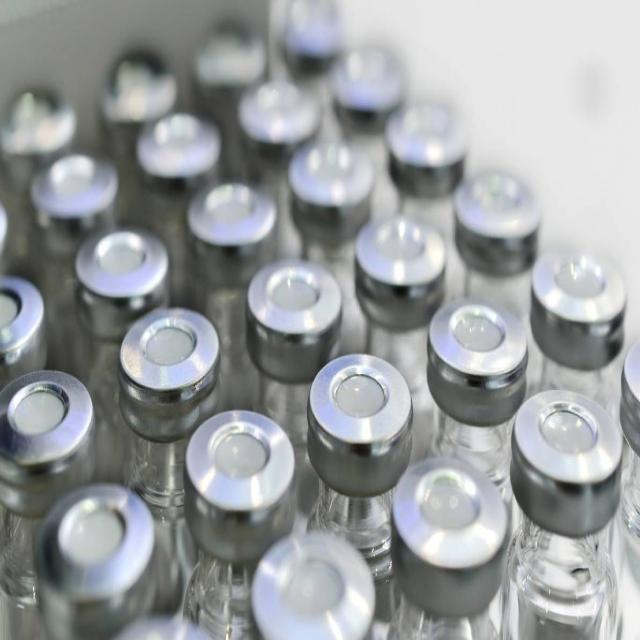vial: (250, 539, 376, 640), (398, 463, 501, 579), (50, 484, 147, 595), (309, 357, 421, 452), (515, 392, 618, 492), (360, 208, 446, 327), (430, 295, 524, 389), (114, 306, 216, 390), (186, 424, 288, 506), (456, 148, 538, 250), (248, 250, 338, 341), (5, 377, 90, 465), (538, 248, 618, 338), (387, 100, 474, 181), (294, 131, 372, 221), (78, 229, 173, 298), (132, 107, 232, 168), (342, 39, 407, 118), (195, 182, 275, 245), (38, 159, 122, 218), (247, 73, 309, 150), (5, 89, 78, 150), (0, 272, 49, 358), (290, 9, 351, 73), (201, 20, 260, 84), (106, 64, 172, 116), (618, 357, 640, 427), (0, 194, 13, 255)
